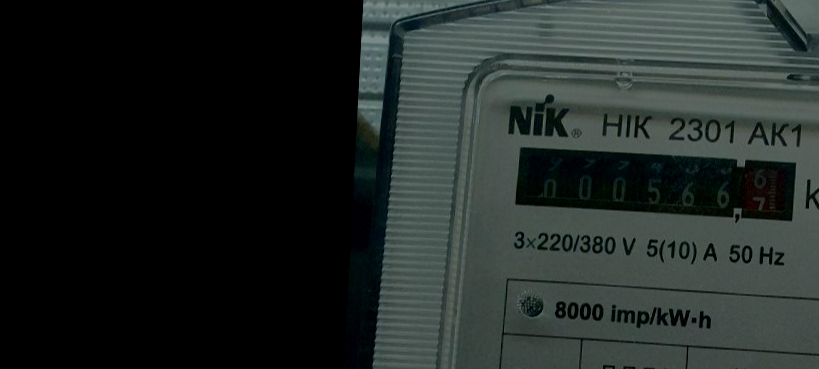0: (609, 174, 628, 204), (575, 171, 593, 201), (539, 174, 559, 198)
5: (644, 176, 663, 205)
6: (712, 177, 733, 209), (676, 178, 697, 207), (751, 166, 769, 192)
7: (749, 194, 766, 213)
9: (544, 152, 563, 173)
screen: (505, 138, 801, 230)
